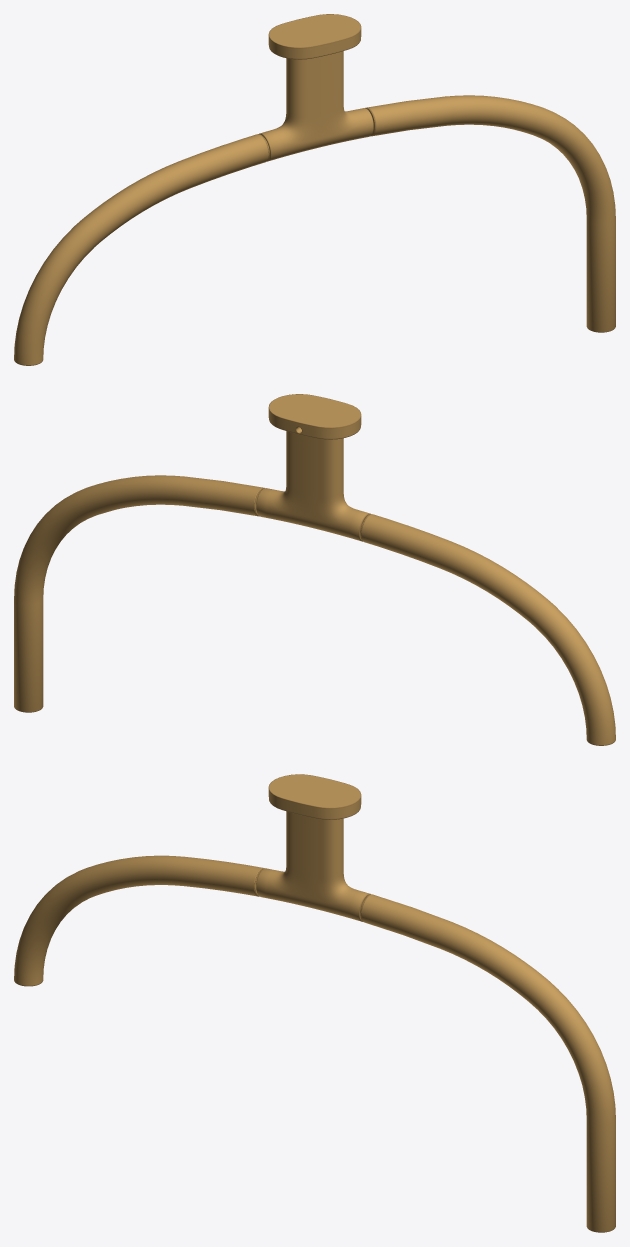
The picture shows the model from 3 angles, top to bottom: view 1: azimuth 30°, elevation 25°; view 2: azimuth 150°, elevation 25°; view 3: azimuth 330°, elevation 25°; orthographic projection.
Parts seen in each view (by area): view 1: 26303W hero cantilever shower; view 2: 26303W hero cantilever shower; view 3: 26303W hero cantilever shower.
Part boxes in pixels (bbox=[...]): 26303W hero cantilever shower: bbox=[14, 14, 615, 365]; 26303W hero cantilever shower: bbox=[14, 394, 615, 745]; 26303W hero cantilever shower: bbox=[14, 774, 615, 1232].
Bounding box in the file's own units: 23.15 × 13.52 × 2.15.
Materials: 1 (1 with a texture image).
